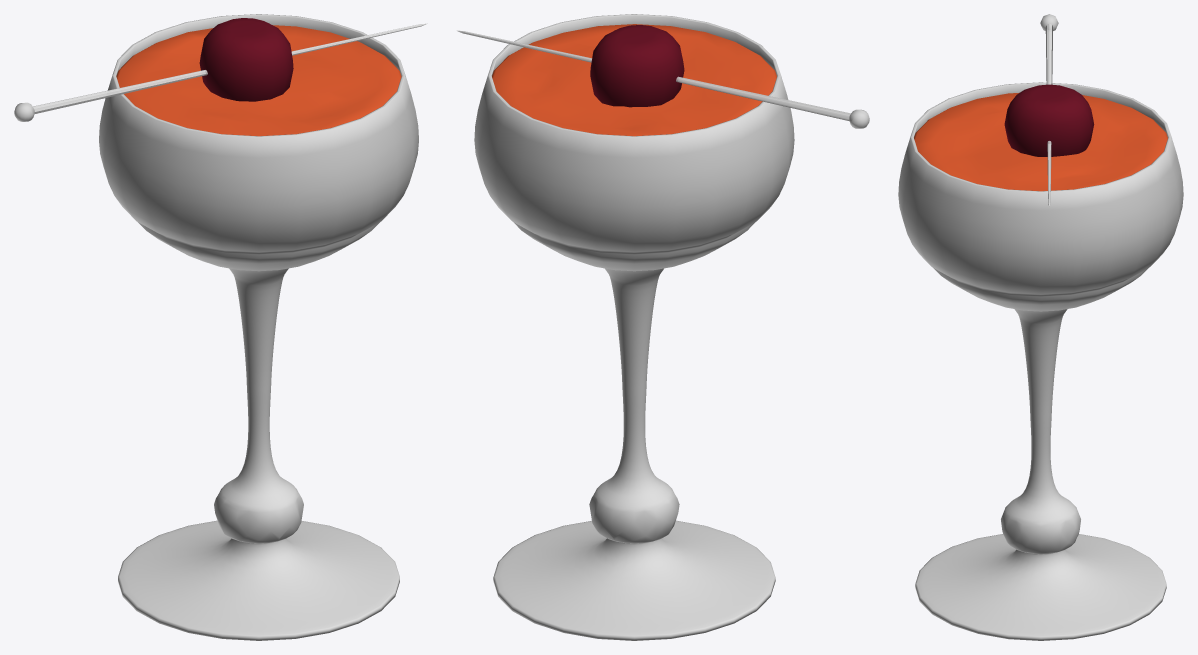
The picture shows the model from 3 angles, left to right: view 1: azimuth 30°, elevation 25°; view 2: azimuth 150°, elevation 25°; view 3: azimuth 270°, elevation 25°; orthographic projection. The views are drawn at different scales.
Parts seen in each view (by area): view 1: Kralica, Kralica.004; view 2: Kralica, Kralica.004; view 3: Kralica, Kralica.004.
Boxes of the visible parts, x1,y1,x2,y2 form: Kralica: [99, 14, 418, 640]; Kralica.004: [14, 18, 427, 121]; Kralica: [474, 14, 794, 640]; Kralica.004: [457, 25, 869, 128]; Kralica: [898, 82, 1183, 640]; Kralica.004: [1004, 14, 1094, 206].
Bounding box in the file's own units: 0.0912 × 0.1165 × 0.0614.
